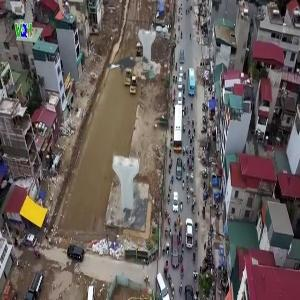drone: (83, 18, 169, 104)
